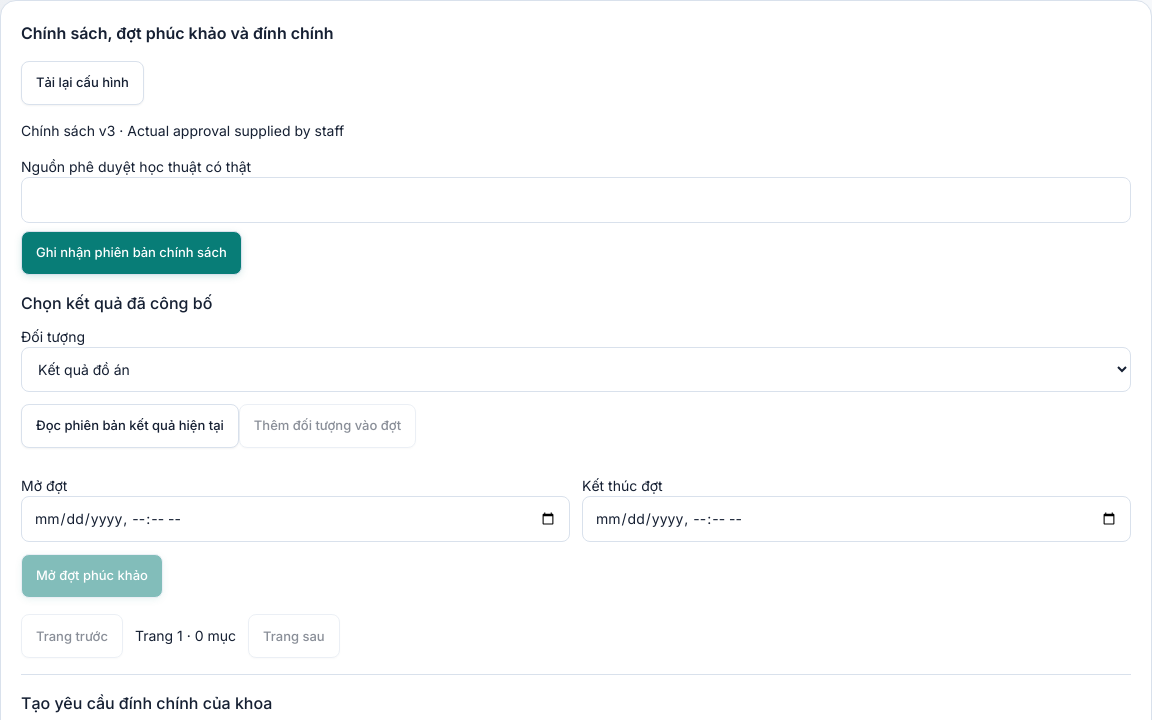
keeps the approval draft on policy conflict and requires a fresh explicit acknowledgement
This screenshot has width=1152, height=720.
Step 1. Type "Approval reference under review" into the field labelled "Nguồn phê duyệt học thuật có thật" → point(576, 200), box [21, 177, 1131, 223]
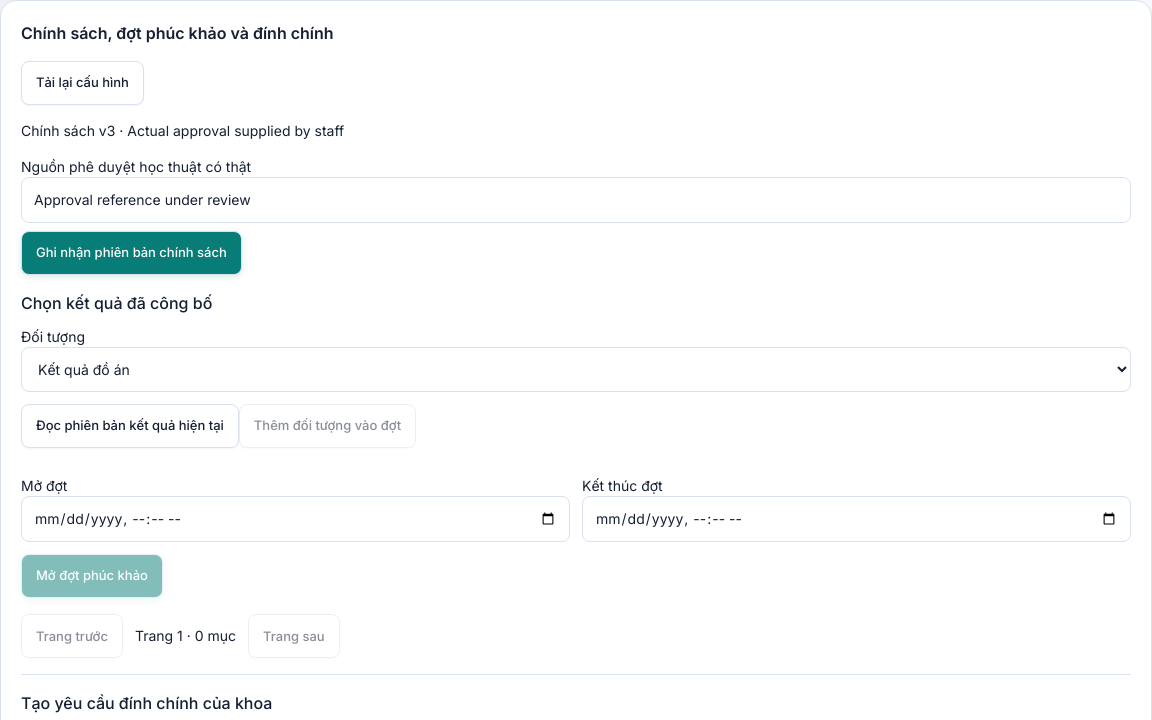
Step 2. Click the button "Ghi nhận phiên bản chính sách" → point(131, 253), box [21, 231, 242, 275]
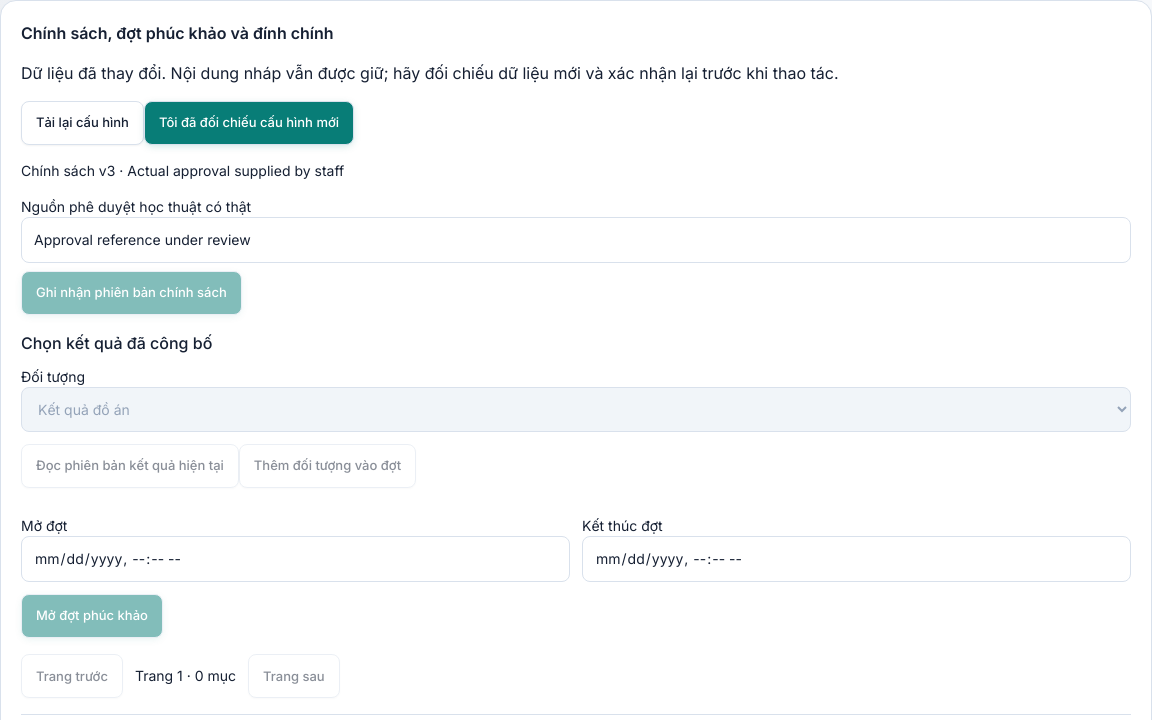
Expected: the button "Tôi đã đối chiếu cấu hình mới" is enabled, [144, 101, 354, 145]
Expected: the button "Ghi nhận phiên bản chính sách" is disabled, [21, 271, 242, 315]
